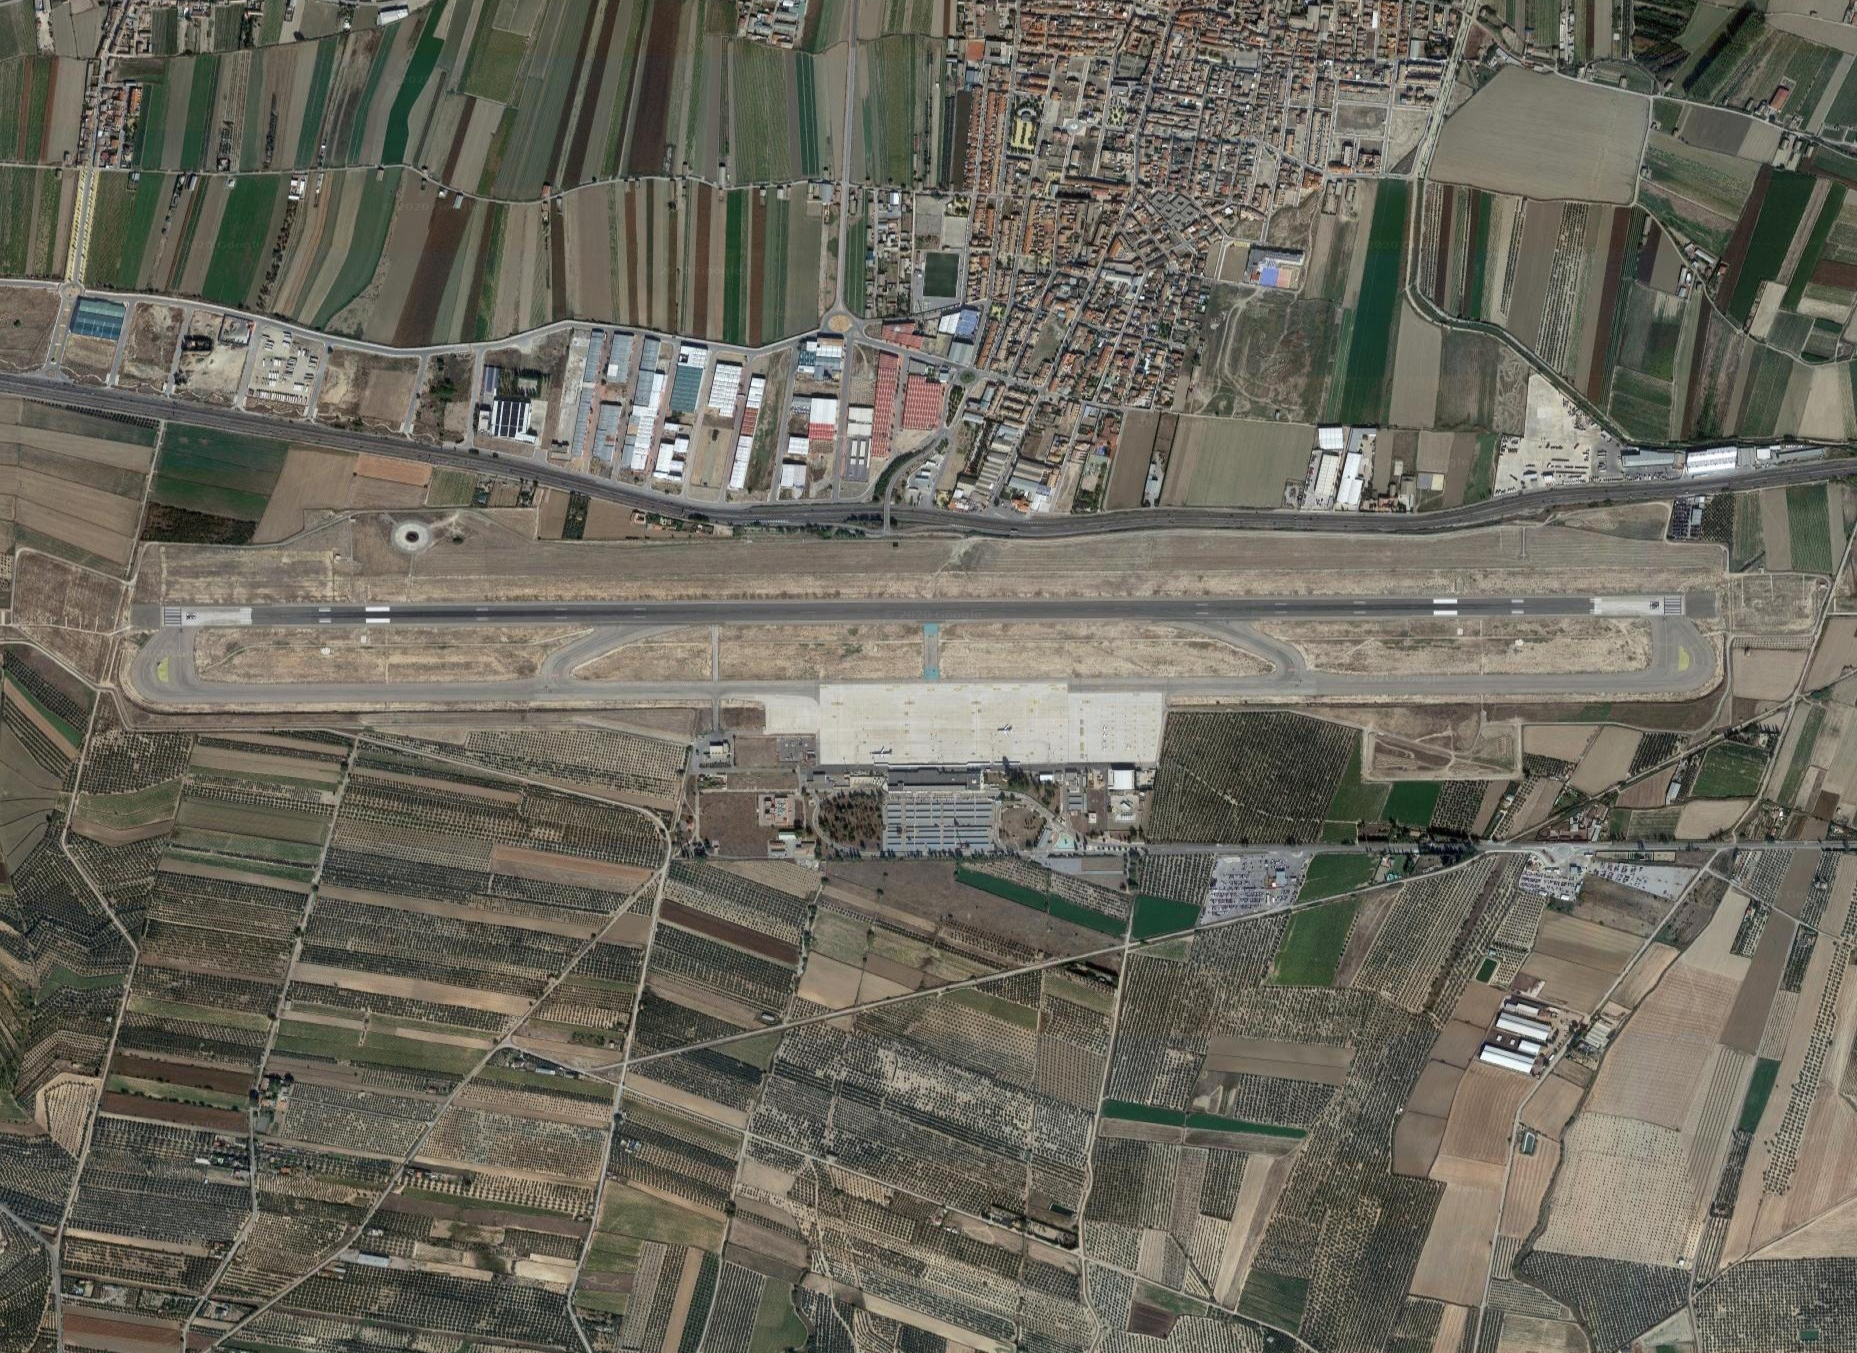airport: (117, 580, 1726, 852)
industrial: (571, 327, 764, 495)
motorway: (411, 431, 619, 503), (1029, 490, 1237, 563), (1237, 482, 1445, 554), (1649, 436, 1857, 508), (1, 368, 208, 440), (206, 401, 412, 473), (619, 477, 825, 550), (825, 483, 1031, 555), (1443, 464, 1649, 537)
